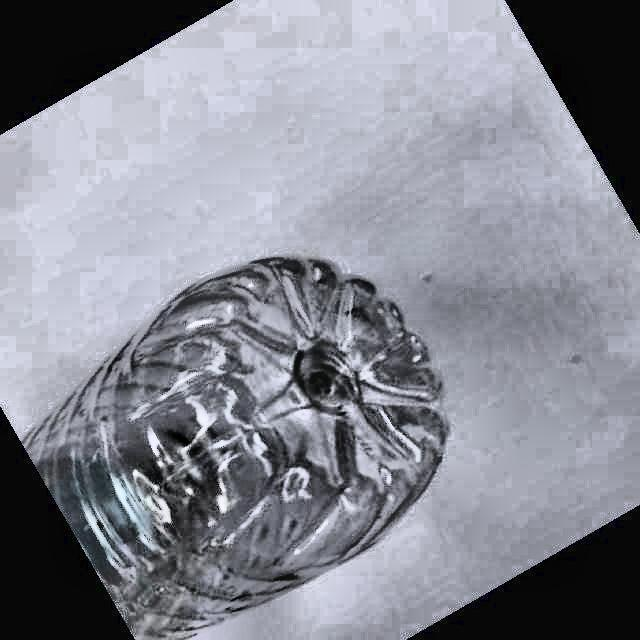plastic: (25, 256, 448, 640)
